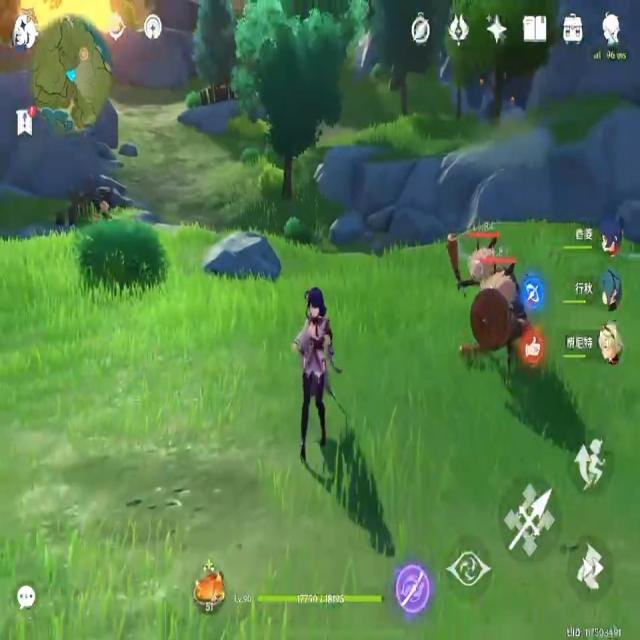genshin-hilichurls: (462, 271, 522, 381), (444, 226, 492, 283)
